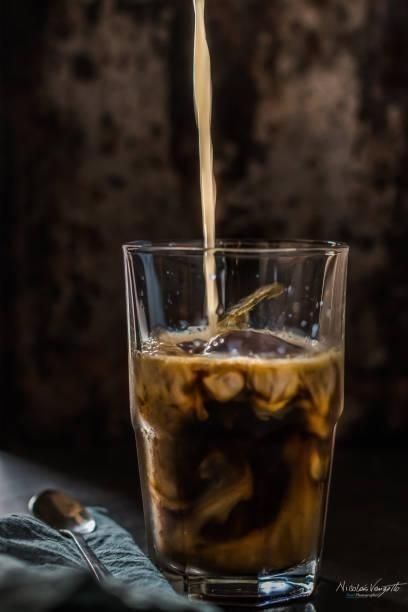glass-normal: (119, 235, 352, 606)
